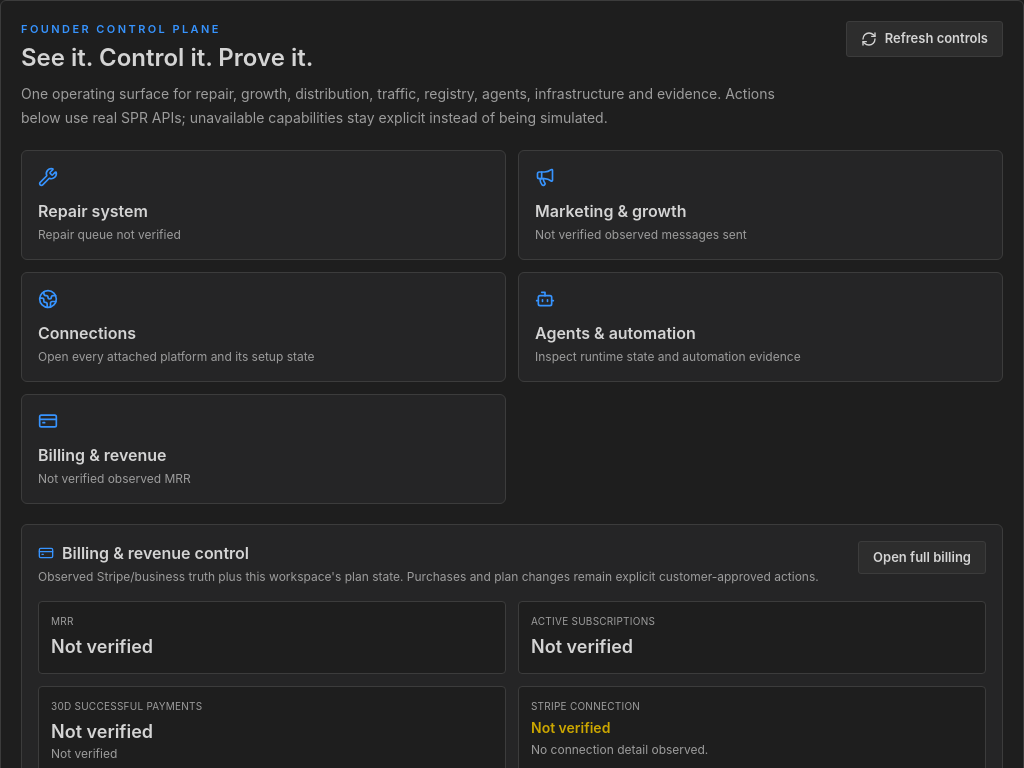
clears stale readings and disables campaign toggles when refresh fails
Click the button "Refresh controls" at [924, 39], box [846,21,1003,56]
(page scrolled)
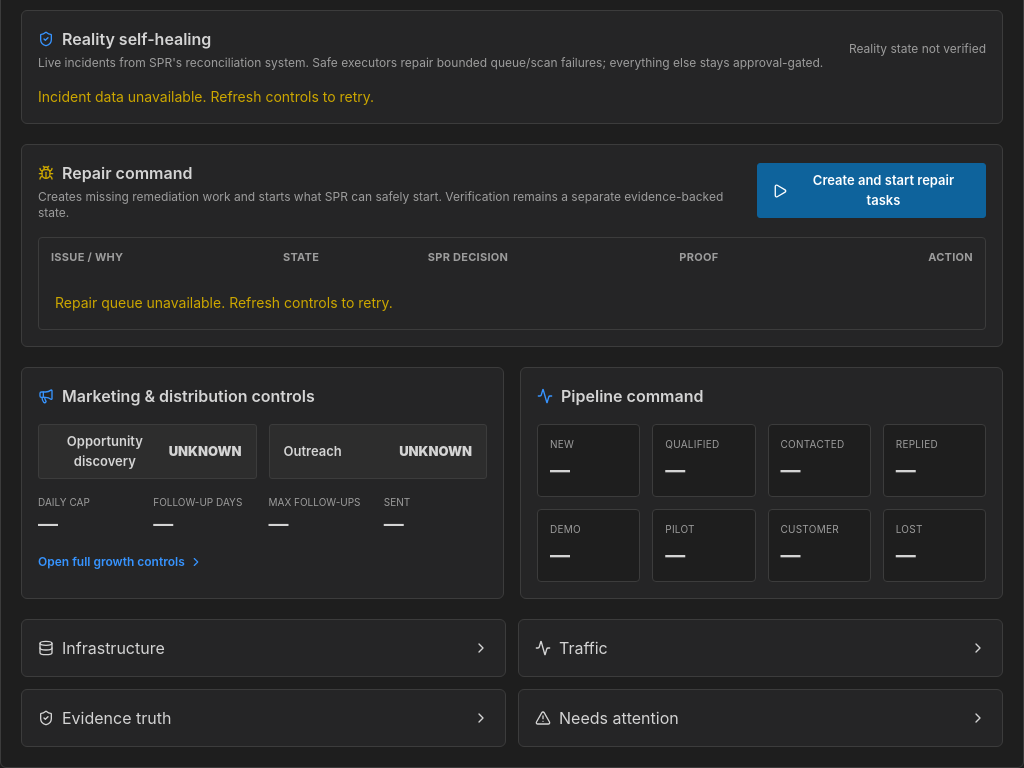
Expected: the text "Incident data unavailable. Refresh controls to retry." is shown, [38,88,374,104]
Expected: the button "Outreach UNKNOWN" is disabled, [268,424,487,479]
